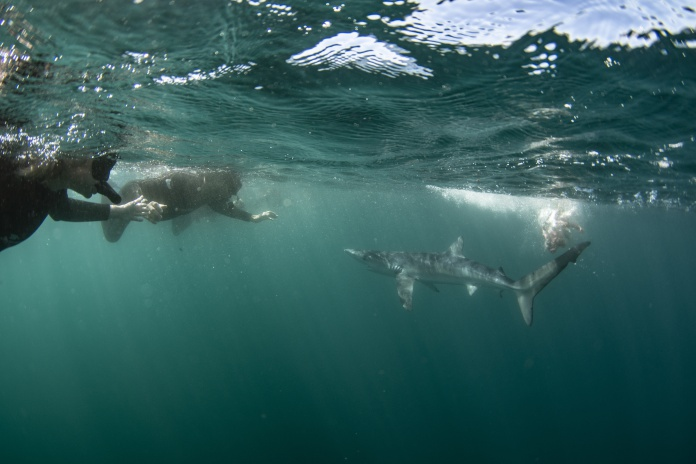Azul: (339, 234, 591, 331)
